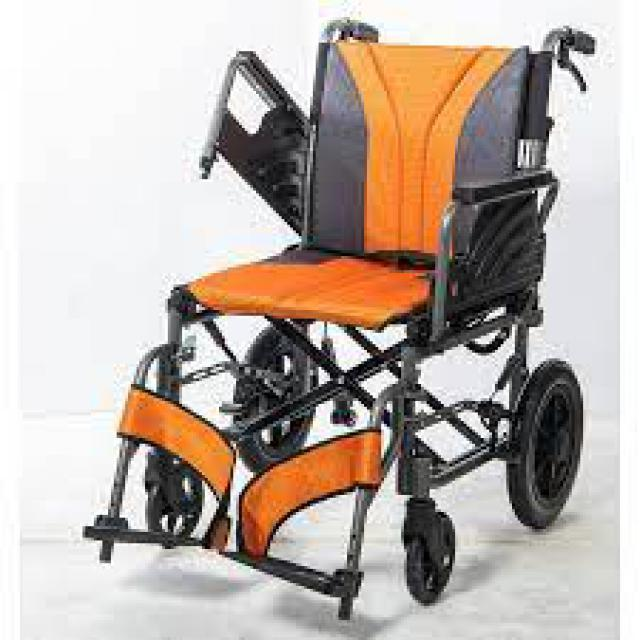wheelchair: (77, 14, 600, 626)
